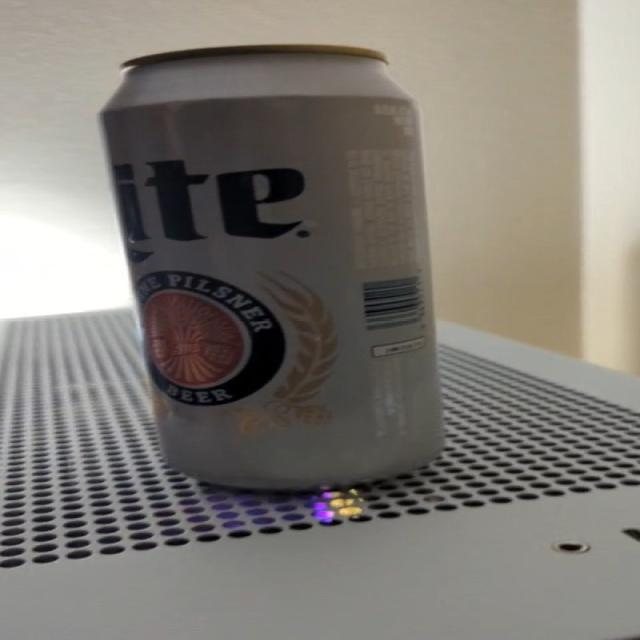metal: (100, 45, 443, 490)
